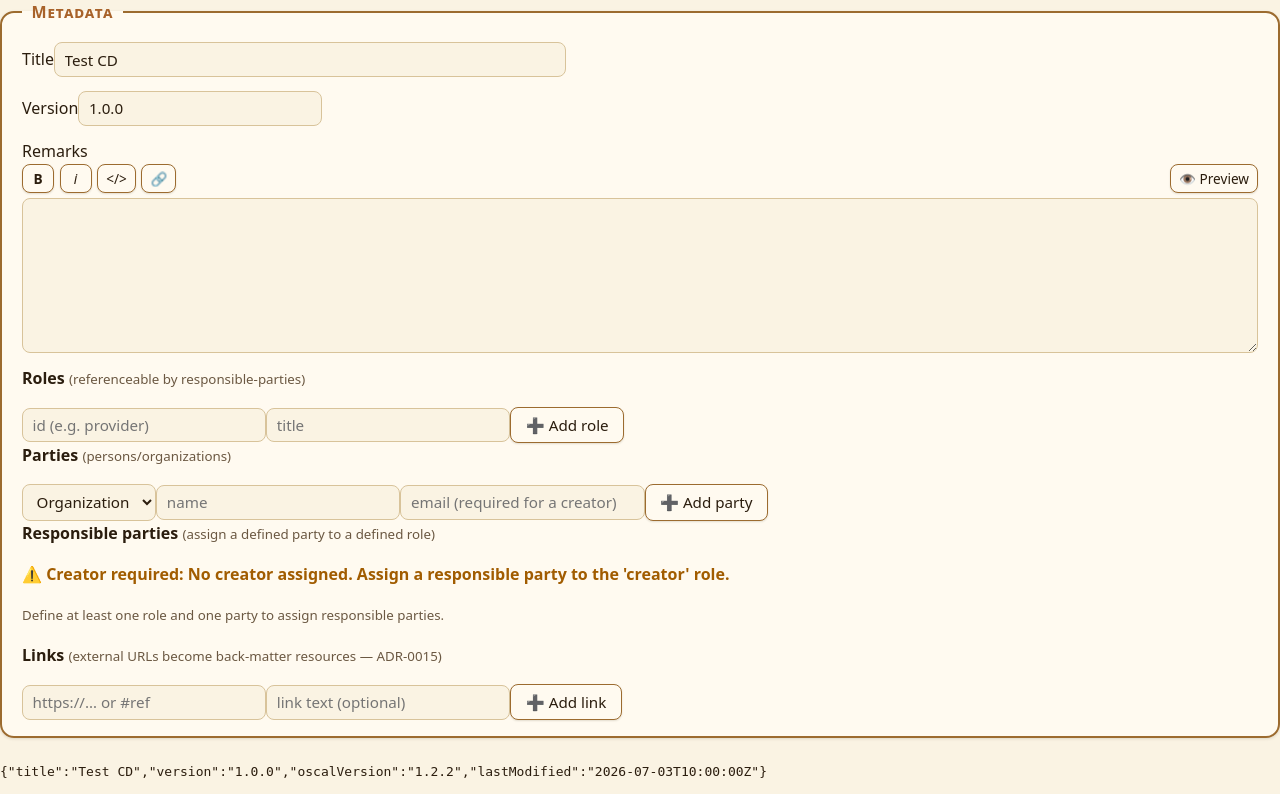
Test: MetadataEditor roles & parties › rejects a duplicate role id
Type "provider" into the field with test id "md-role-id" at (144, 425), box 22,408 -> 266,442
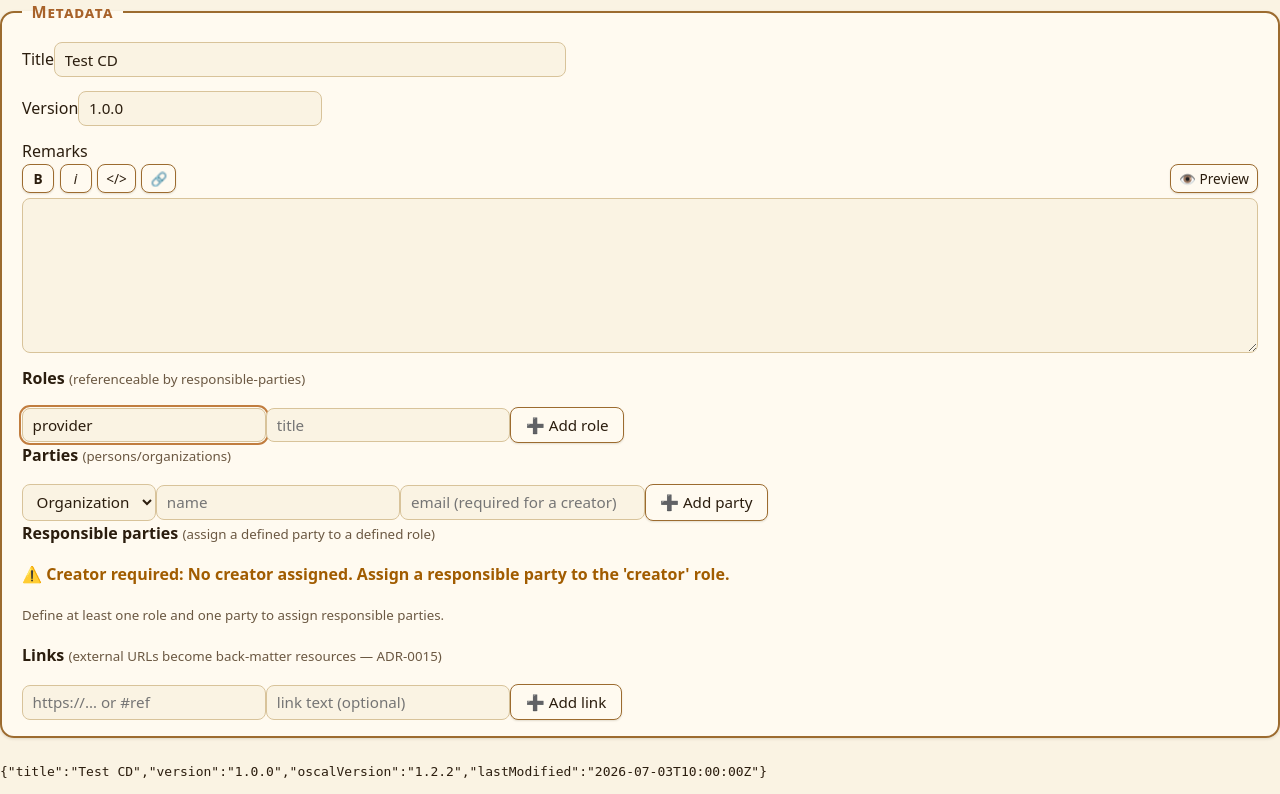
Type "Anbieter" into the field with test id "md-role-title" at (388, 425), box 266,408 -> 510,442
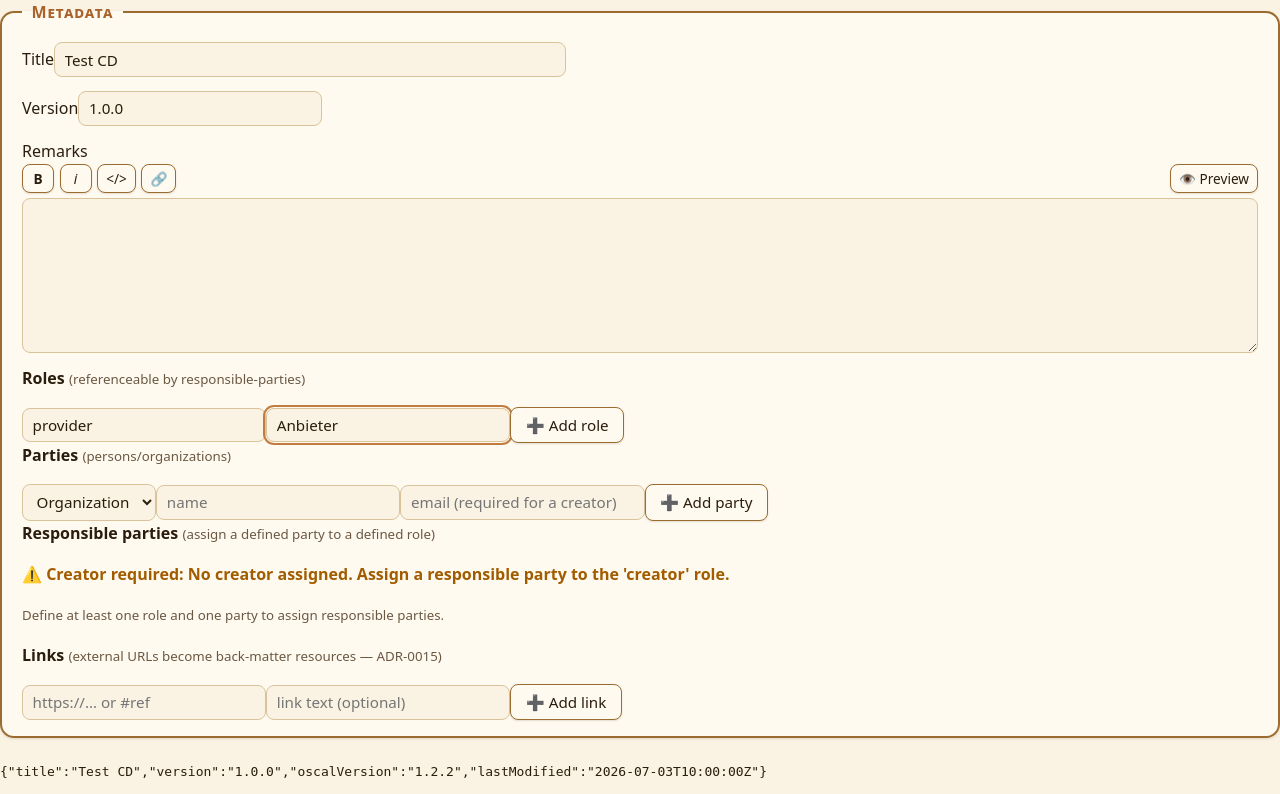
Click the button with test id "md-add-role" at (567, 425), box 510,407 -> 624,443
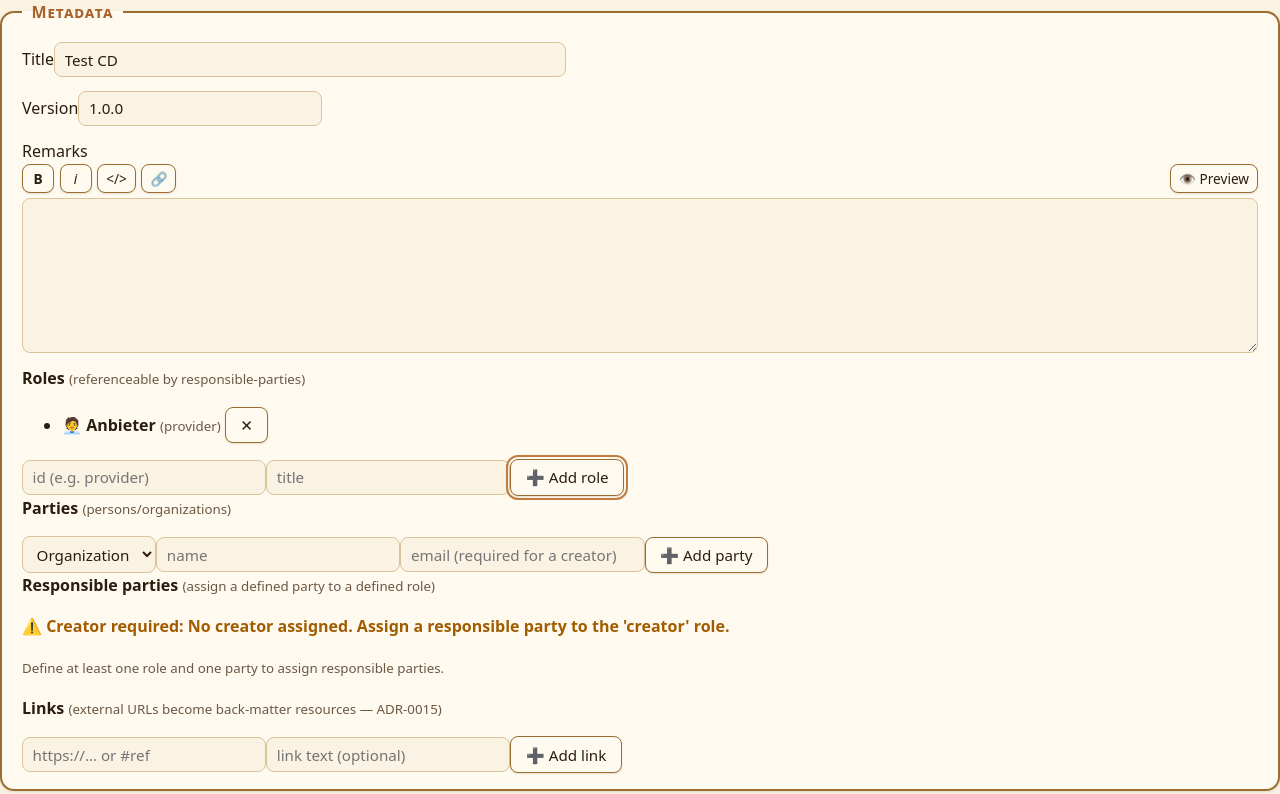
Type "provider" into the field with test id "md-role-id" at (144, 478), box 22,460 -> 266,495
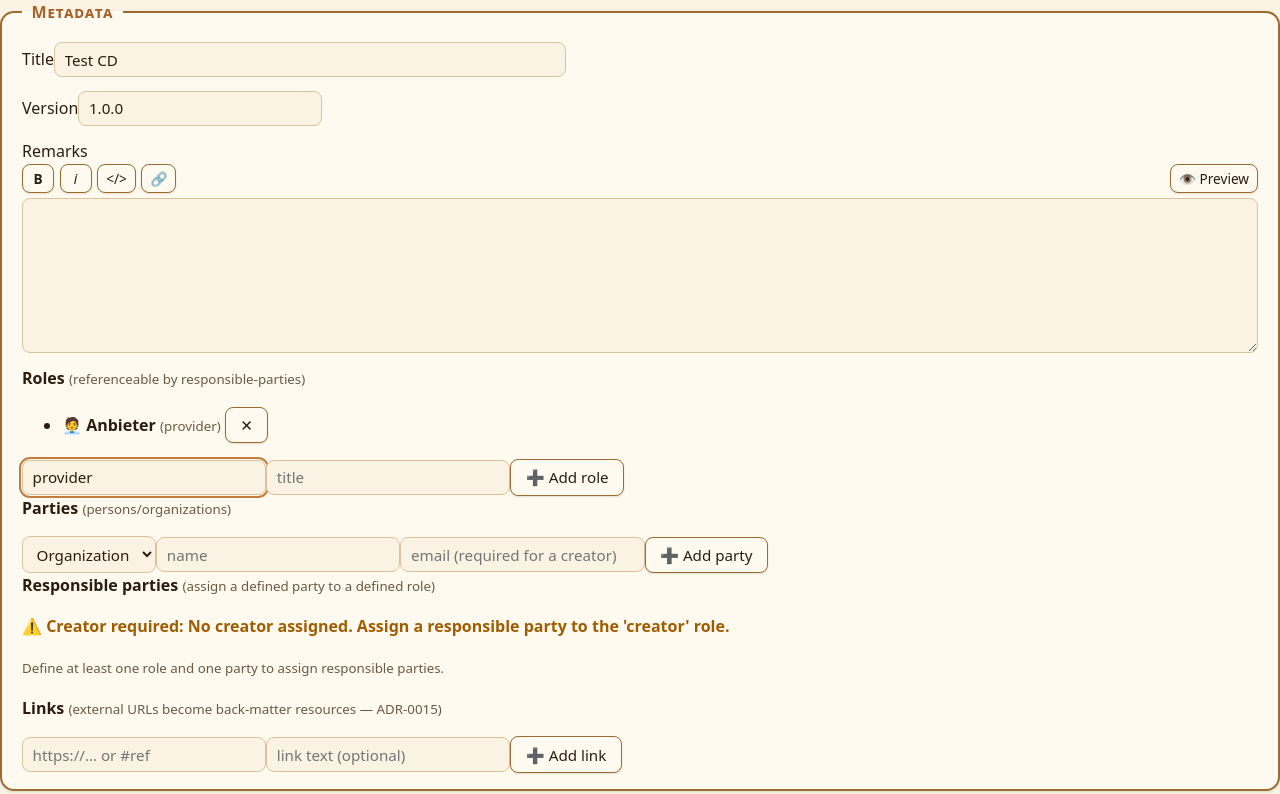
Type "Zweiter" into the field with test id "md-role-title" at (388, 478), box 266,460 -> 510,495
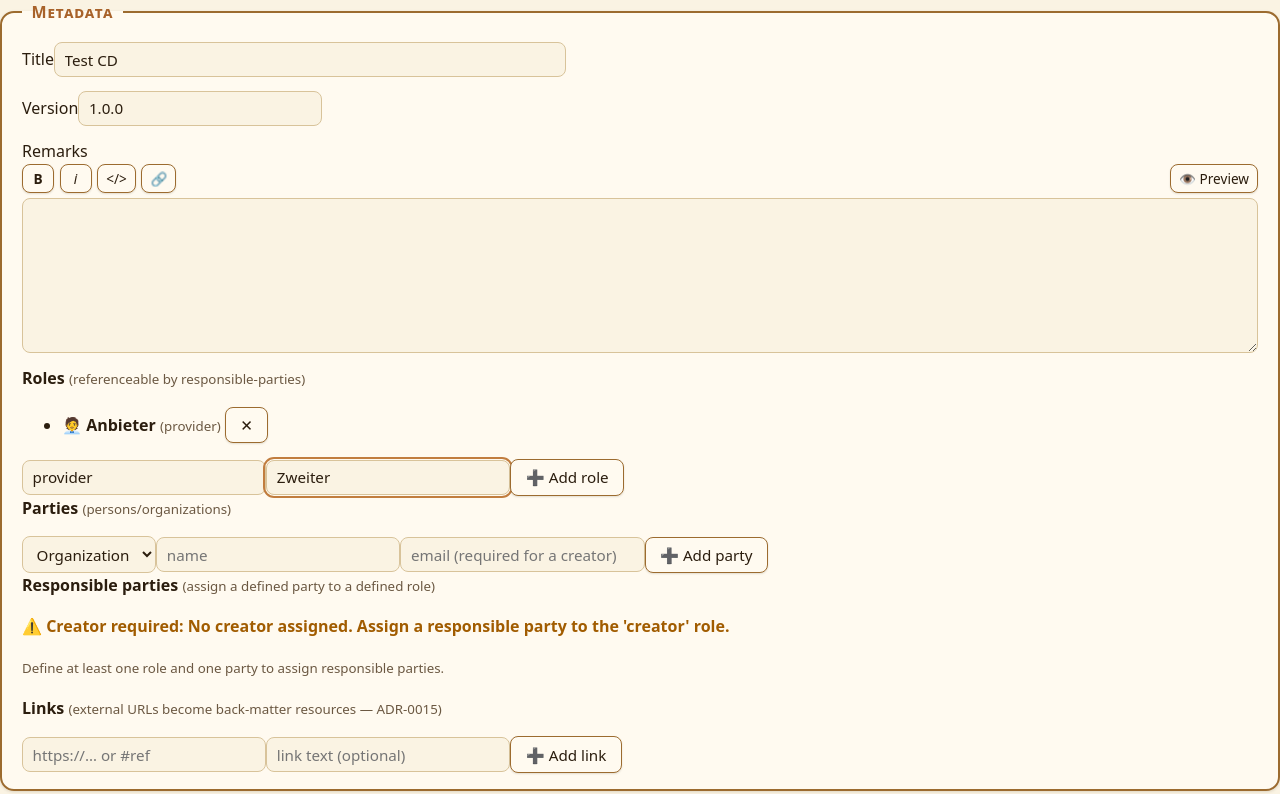
Click the button with test id "md-add-role" at (567, 478), box 510,459 -> 624,496
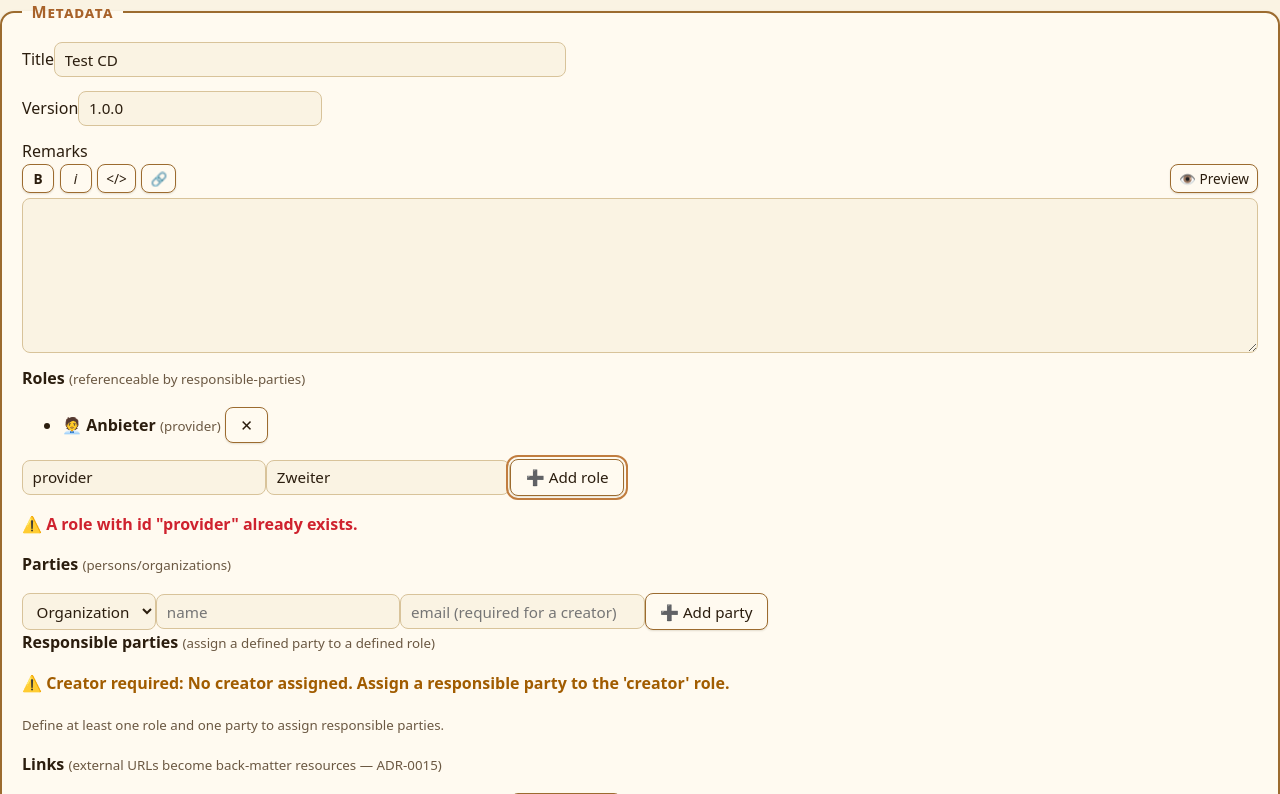
Check: the message "⚠️ A role with id \"provider\" already exists." is shown, box 22,513 -> 358,535
